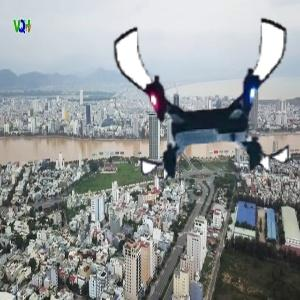drone: (114, 9, 293, 188)
